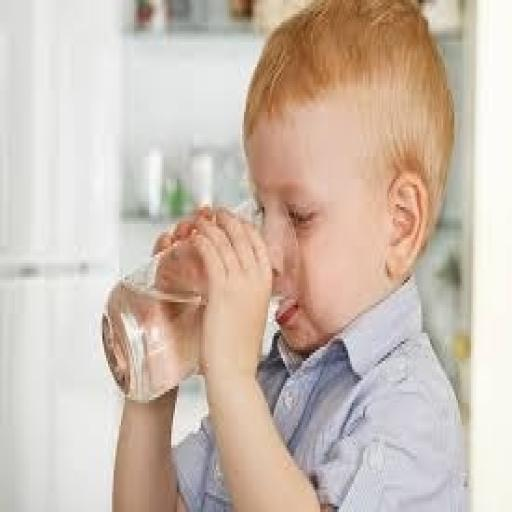drinking: (101, 0, 469, 509)
